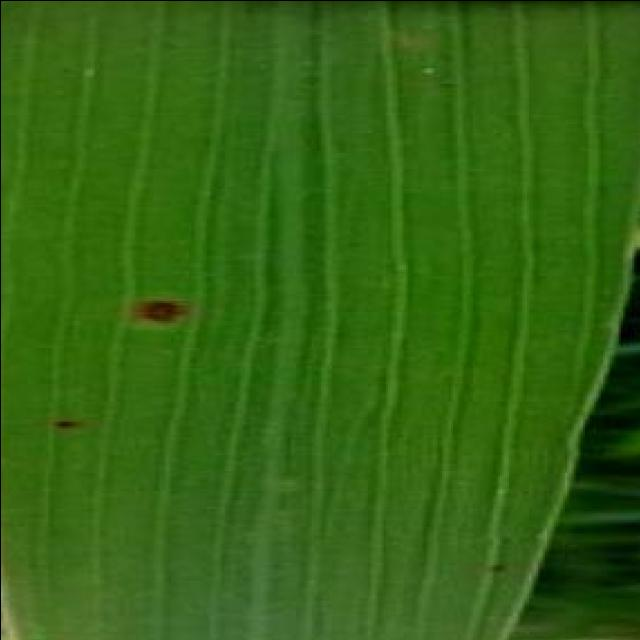Brown_Spot: (128, 288, 200, 340), (42, 416, 94, 441), (482, 557, 514, 584)
